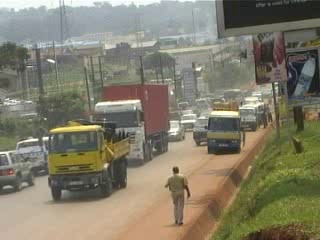Car: (0, 147, 39, 197), (166, 118, 186, 142), (180, 112, 200, 132)
